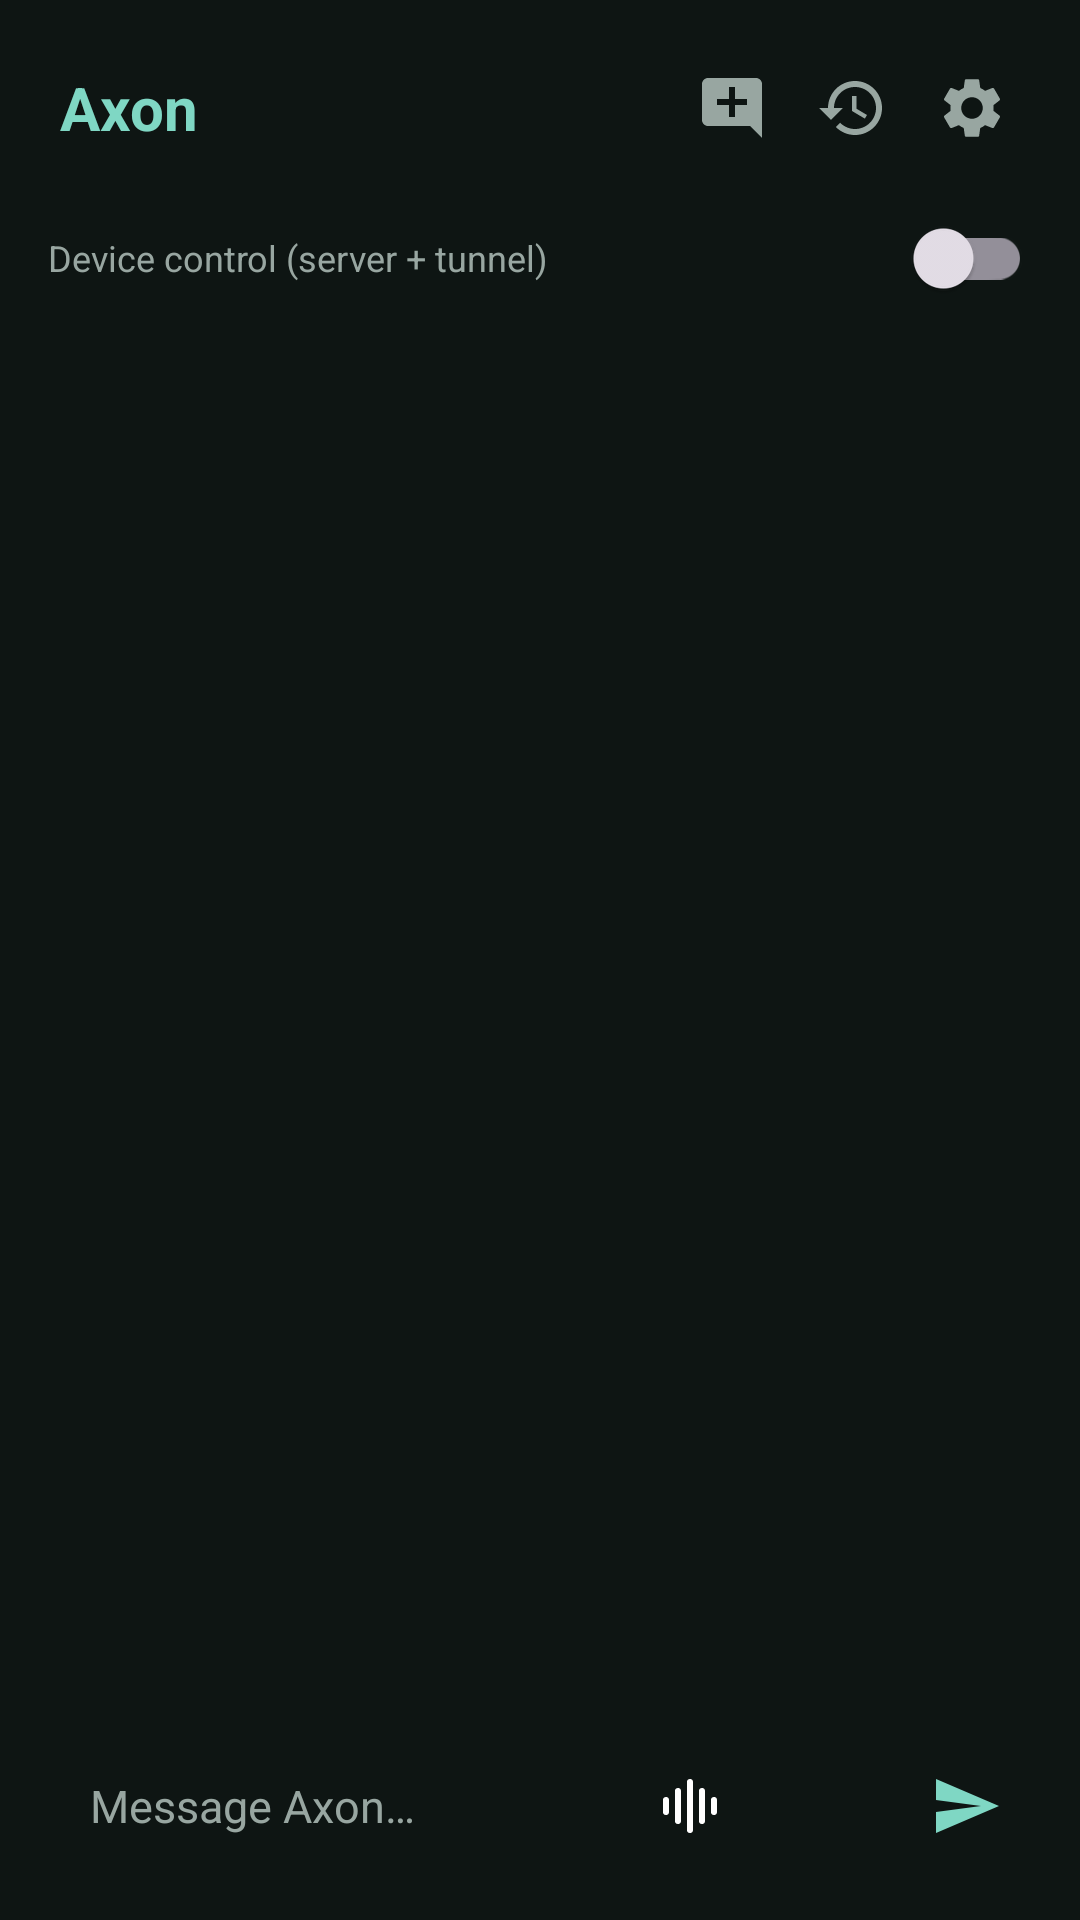

Named icons in this screenshot (1080px×1920px) and their centers, point (x, y):
New conversation: point (732, 108)
Send: point (967, 1806)
Settings: point (972, 108)
Voice History: point (850, 108)
